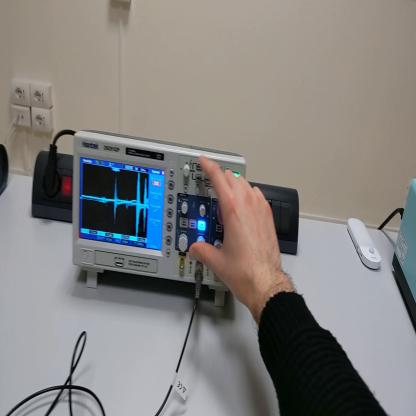hand: (188, 153, 283, 305)
oscilloscope: (75, 131, 249, 308)
socket: (33, 148, 74, 224), (1, 144, 10, 198)
welder station: (392, 175, 416, 342)
